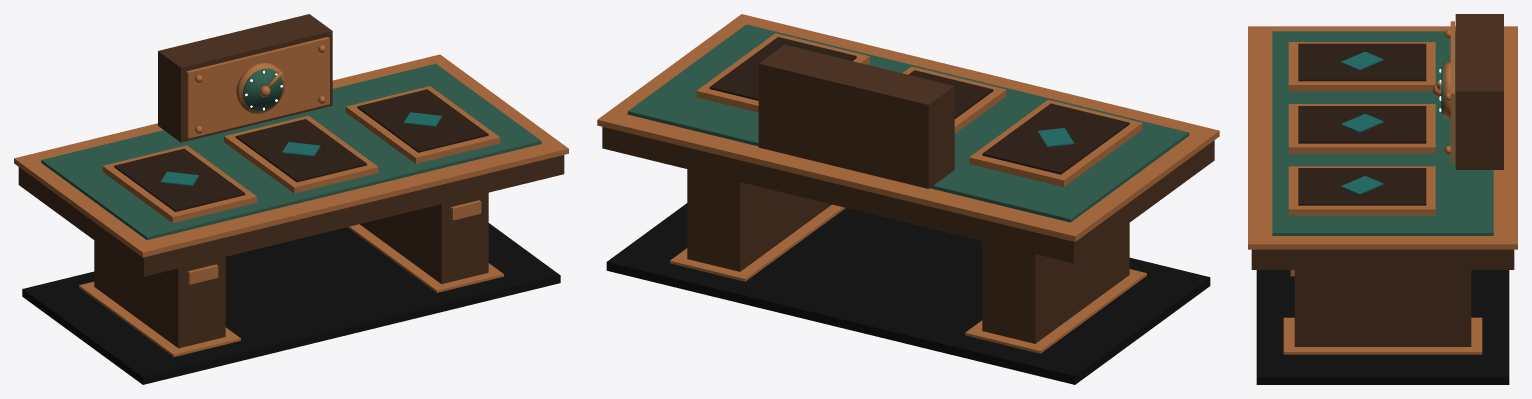
File: contract_table.glb
3 views of the same model, side by side, from view 1: azimuth 30°, elevation 25°; view 2: azimuth 150°, elevation 25°; view 3: azimuth 270°, elevation 25° (orthographic). The views are drawn at different scales.
Parts seen in each view (by area): view 1: contract_table metal, contract_table wood, contract_table rubber, contract_table felt, contract_table sign, contract_table glass; view 2: contract_table wood, contract_table rubber, contract_table metal, contract_table felt, contract_table sign; view 3: contract_table wood, contract_table metal, contract_table felt, contract_table sign, contract_table rubber, contract_table glass.
Part boxes in pixels (x1,y1,x2,y2): contract_table metal: (14,37,568,356); contract_table wood: (18,14,564,348); contract_table rubber: (22,223,560,384); contract_table felt: (41,63,541,240); contract_table sign: (114,89,488,211); contract_table glass: (160,112,441,186); contract_table wood: (602,44,1214,343); contract_table rubber: (606,203,1210,384); contract_table metal: (597,14,1219,353); contract_table felt: (627,24,1189,222); contract_table sign: (709,37,1129,174); contract_table wood: (1251,14,1514,346); contract_table metal: (1248,21,1517,354); contract_table felt: (1272,31,1493,235); contract_table sign: (1298,43,1426,205); contract_table rubber: (1256,270,1509,384); contract_table glass: (1340,51,1383,194).
Size of what is drawn, in the model's own units: 2.98 by 1.44 by 1.56.
